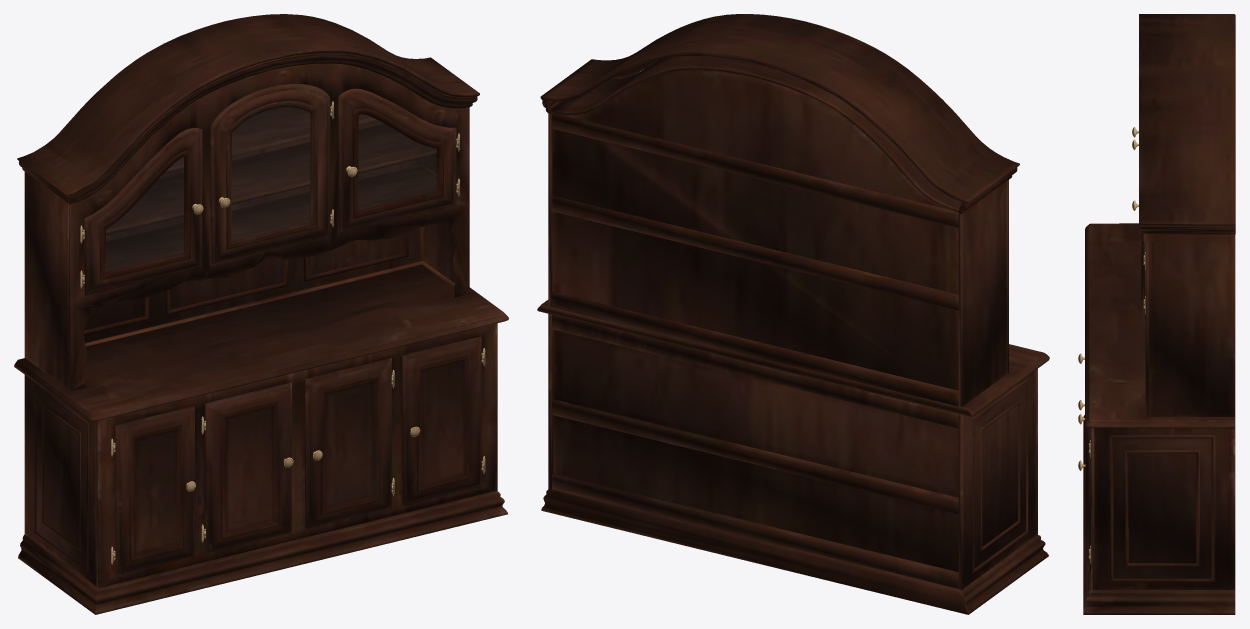
Rendered from vintage_cabinet_01.glb.
The picture shows the model from 3 angles, left to right: view 1: azimuth 30°, elevation 25°; view 2: azimuth 150°, elevation 25°; view 3: azimuth 270°, elevation 25°; orthographic projection. The views are drawn at different scales.
Parts seen in each view (by area): view 1: vintage_cabinet_01_body, vintage_cabinet_01_door_01; view 2: vintage_cabinet_01_body; view 3: vintage_cabinet_01_body.
Part boxes in pixels (x1=…): vintage_cabinet_01_body: x1=14, y1=14, x2=508, y2=614; vintage_cabinet_01_door_01: x1=106, y1=107, x2=436, y2=271; vintage_cabinet_01_body: x1=537, y1=14, x2=1049, y2=614; vintage_cabinet_01_body: x1=1078, y1=14, x2=1235, y2=614.
Bounding box in the file's own units: 2.02 × 2.23 × 0.6697.
3 materials, 2 textured.
